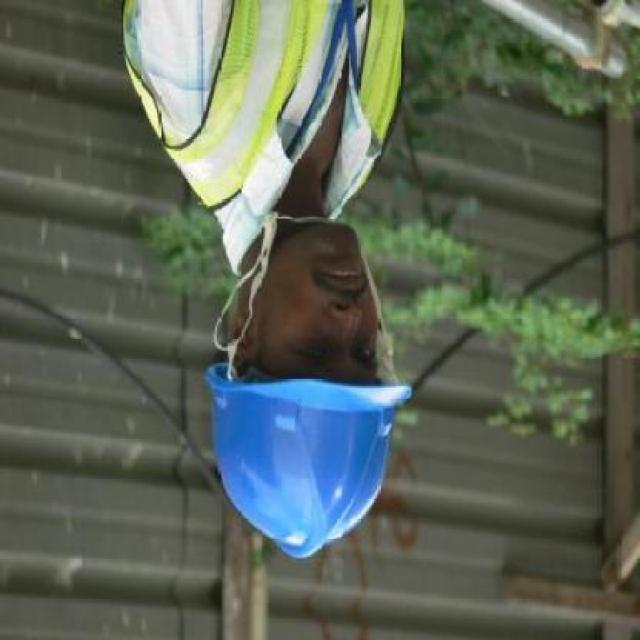safetyhelmet: (205, 332, 423, 556)
